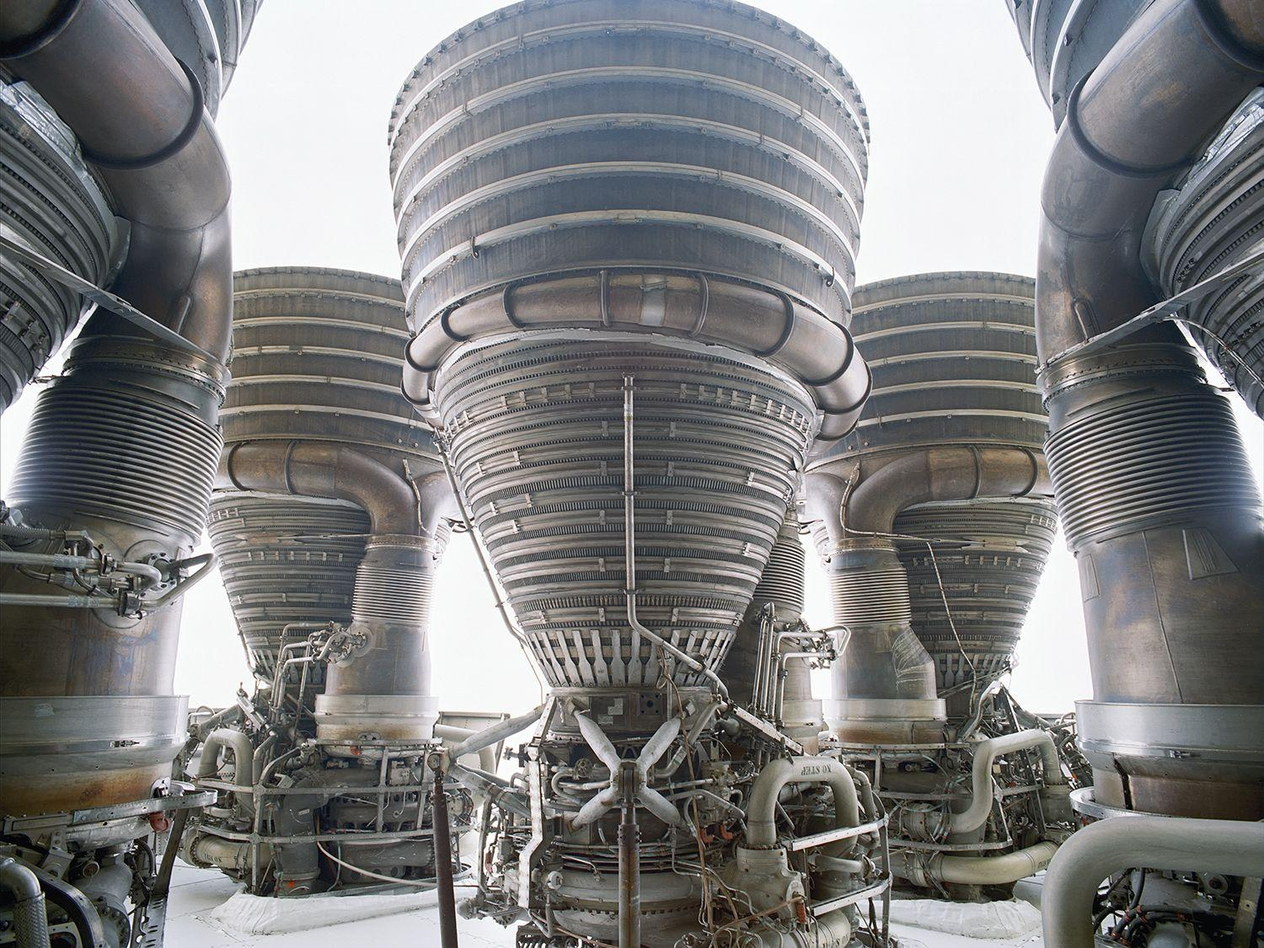thruster: (384, 0, 876, 694), (0, 0, 273, 419), (997, 0, 1264, 428), (201, 263, 463, 690), (836, 267, 1063, 673)
